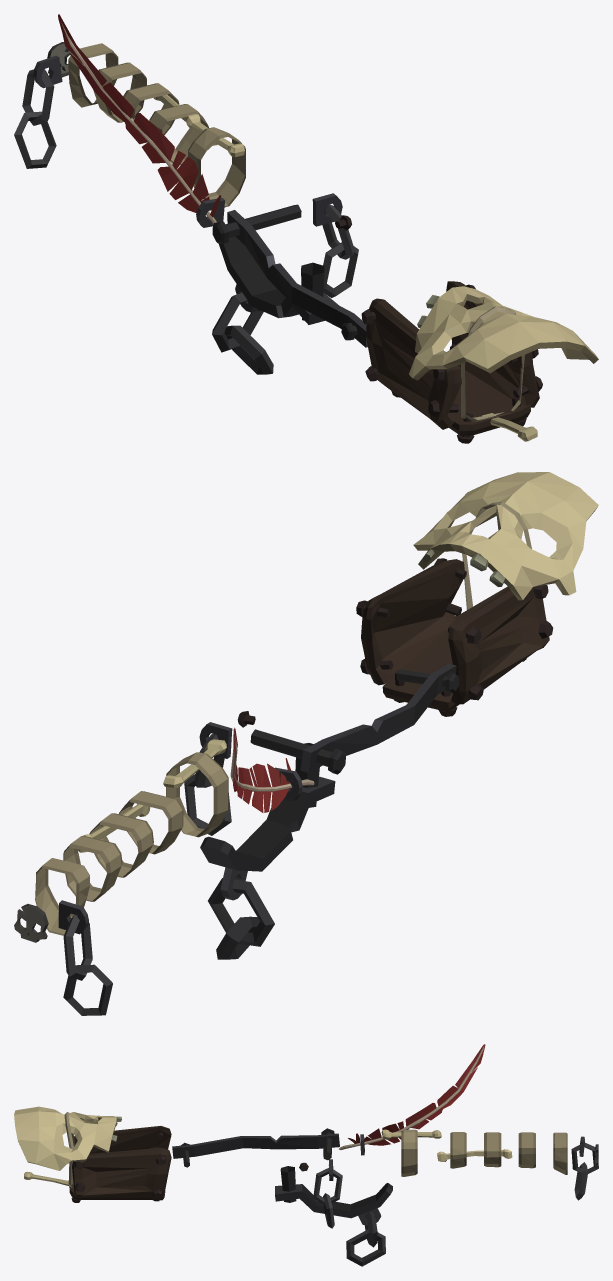
File: largeCrossbowFearlessHandle.glb
3 renders of one model, top to bottom at view 1: azimuth 30°, elevation 25°; view 2: azimuth 150°, elevation 25°; view 3: azimuth 270°, elevation 25°, orthographic. The views are drawn at different scales.
Parts seen in each view (by area): view 1: largeCrossbowFearlessHandle; view 2: largeCrossbowFearlessHandle; view 3: largeCrossbowFearlessHandle.
Boxes of the visible parts, bbox=[...] form: largeCrossbowFearlessHandle: bbox=[14, 14, 598, 443]; largeCrossbowFearlessHandle: bbox=[14, 472, 598, 1015]; largeCrossbowFearlessHandle: bbox=[14, 1044, 598, 1266].
Size of the model in its own units: 0.2013 by 0.3468 by 0.962.
